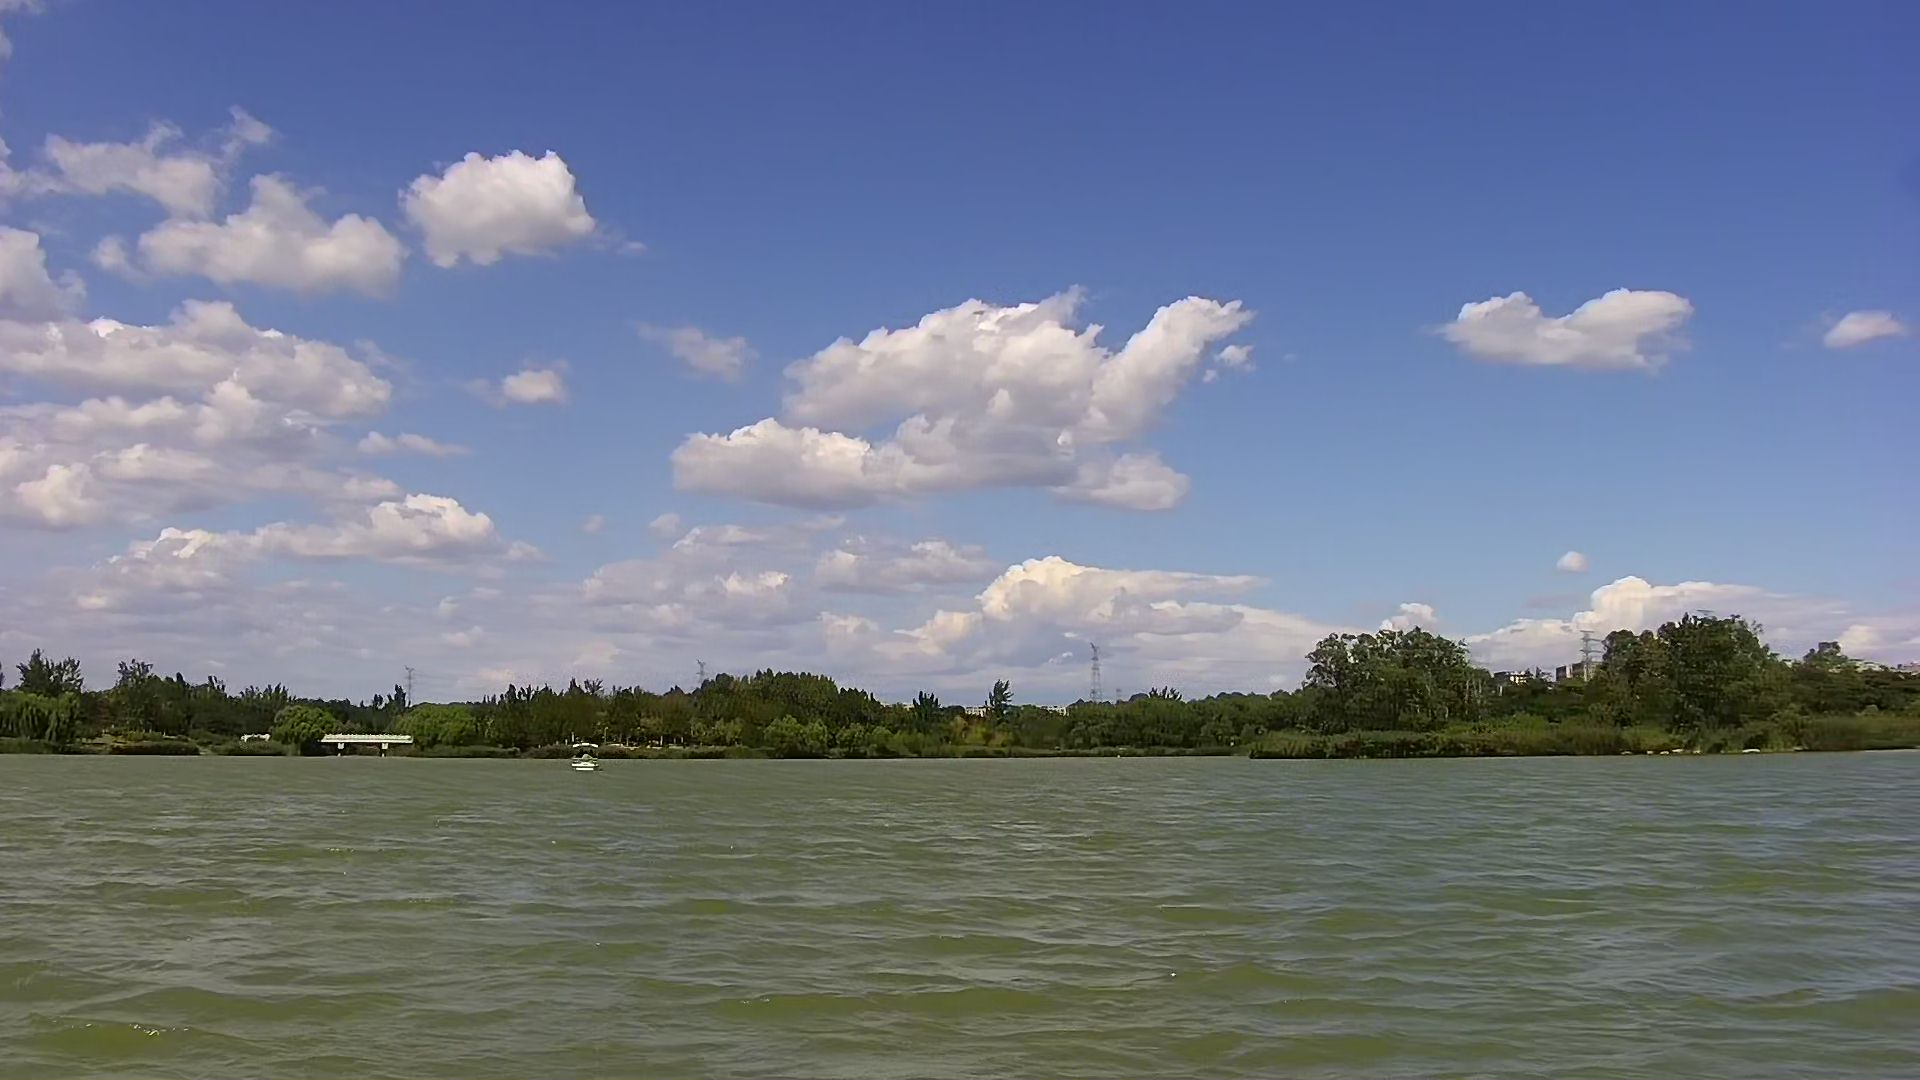boat: (564, 740, 597, 770)
harbor: (316, 732, 414, 758)
